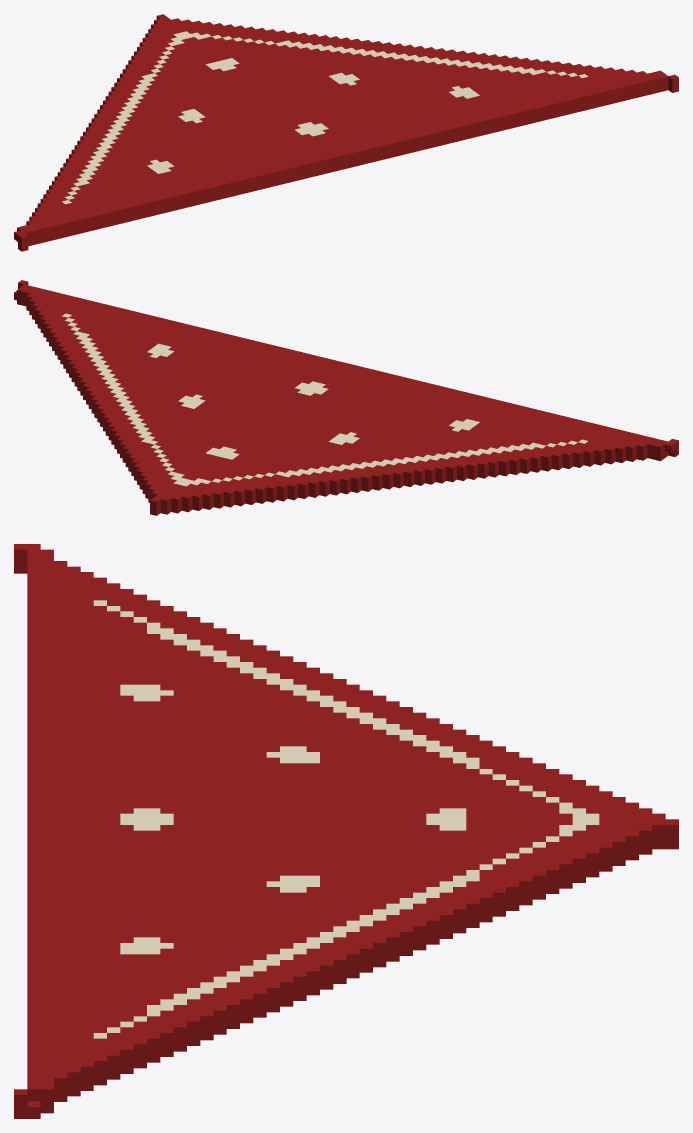
The model's file is bandana.glb.
3 views of the same model, one above another, from view 1: azimuth 30°, elevation 25°; view 2: azimuth 150°, elevation 25°; view 3: azimuth 270°, elevation 25° (orthographic). The views are drawn at different scales.
Parts seen in each view (by area): view 1: bandana:compound; view 2: bandana:compound; view 3: bandana:compound.
Part boxes in pixels (box(x1,y1,x2,y2)): bandana:compound: box(14, 14, 678, 251); bandana:compound: box(14, 280, 678, 515); bandana:compound: box(14, 544, 678, 1118).
Bounding box in the file's own units: 0.392 × 0.008 × 0.2.
